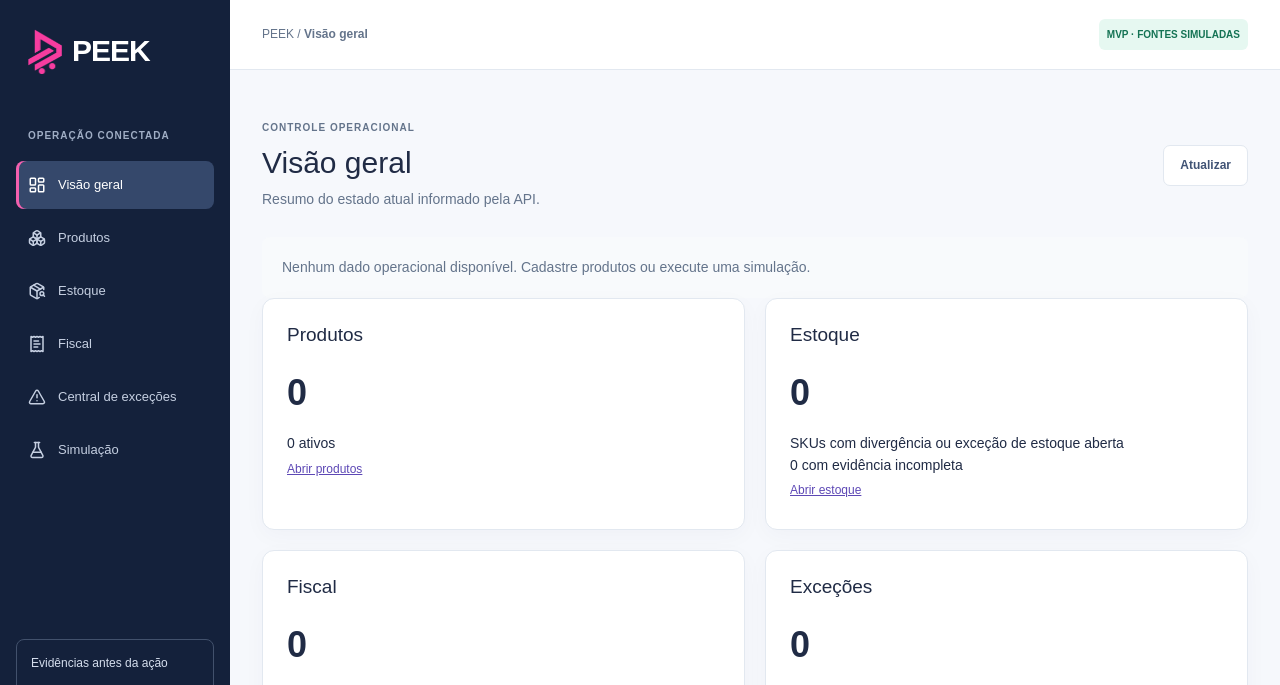
PEEK shell › exposes six real route links, uses PEEK branding and selects only the current route
The image size is (1280, 685).
Click the link "Visão geral". click: (115, 185)
box: [16,161,214,209]
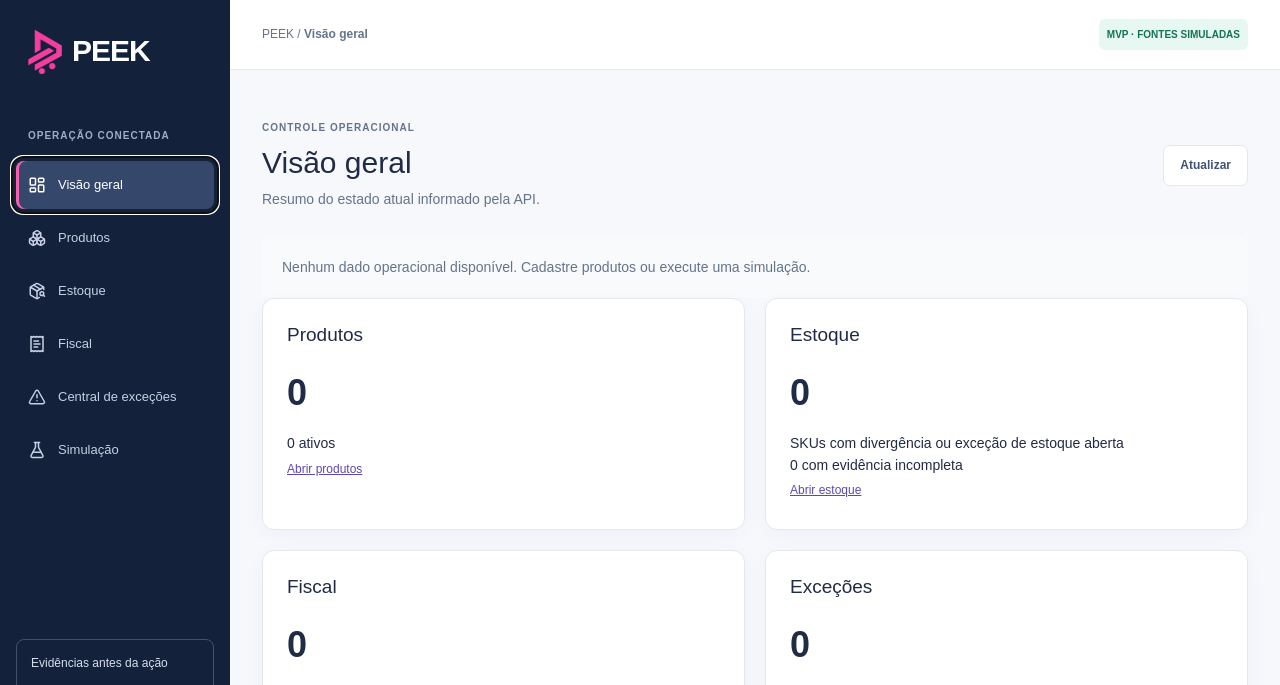
Expected: the heading "Visão geral" is shown, [262,146,412,178]
Click the link "Produtos". click: (69, 238)
box: [28,229,110,247]
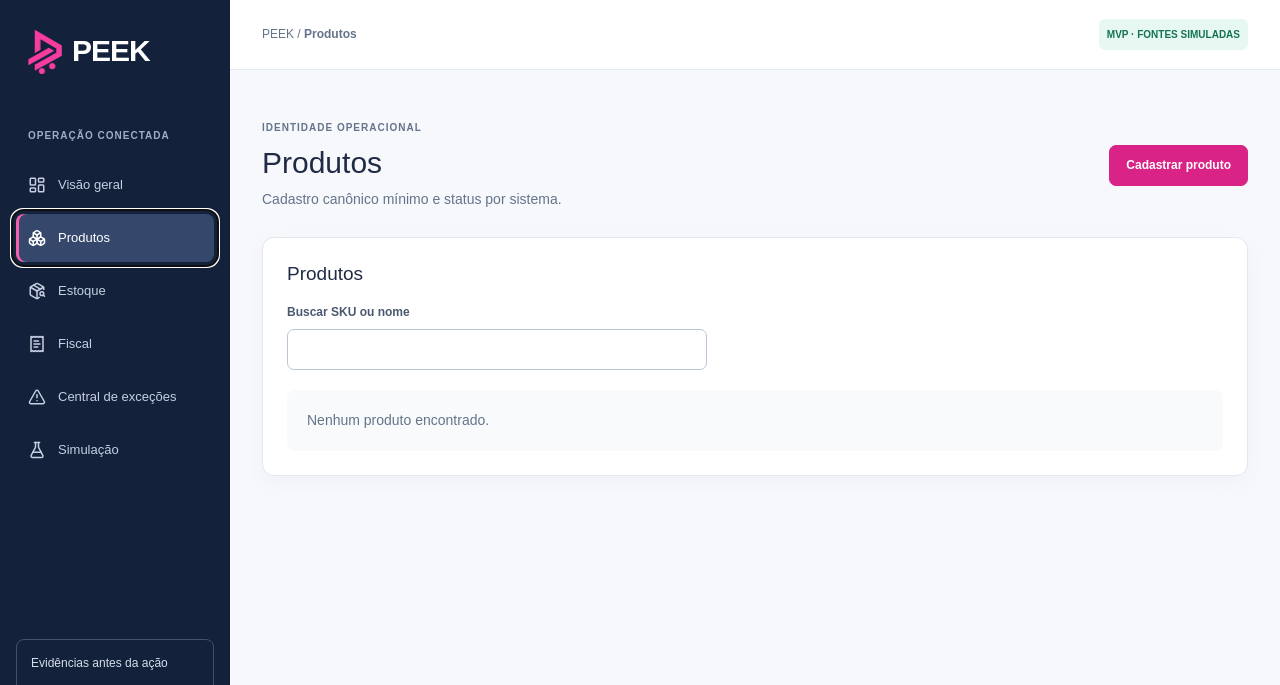
Result: the heading "Produtos" below "Identidade operacional" is shown at [262,146,382,178]
Click the link "Estoque". click: (67, 291)
box: [28,282,106,300]
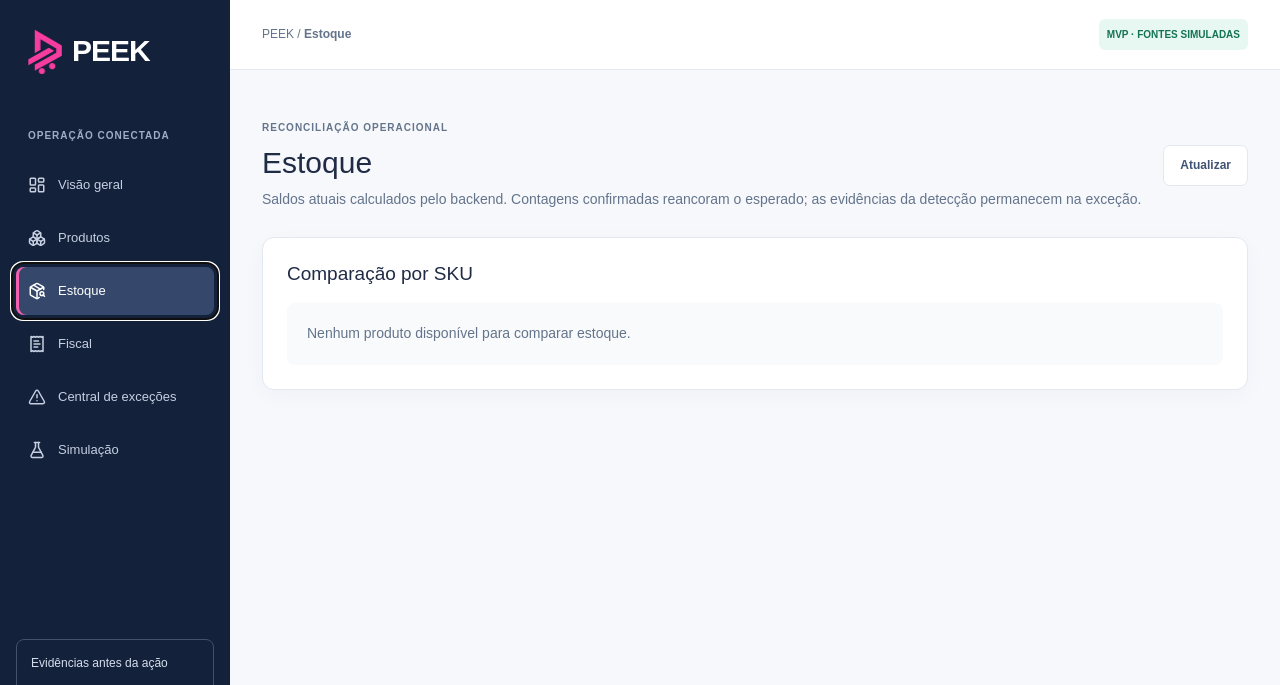
Result: the heading "Estoque" is shown at [262,146,372,178]
Click the link "Fiscal". click: (60, 344)
box: [28,335,92,353]
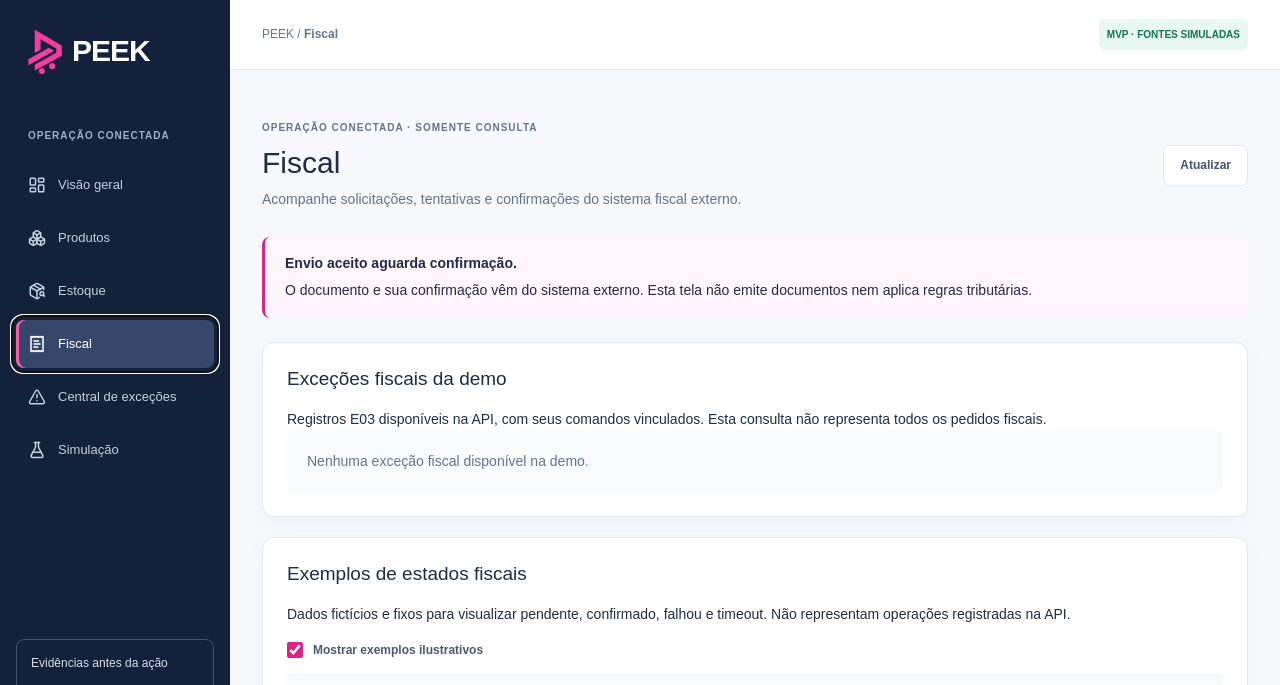
Result: the heading "Fiscal" is shown at [262,146,340,178]
Click the link "Central de exceções". click: (102, 397)
box: [28,388,176,406]
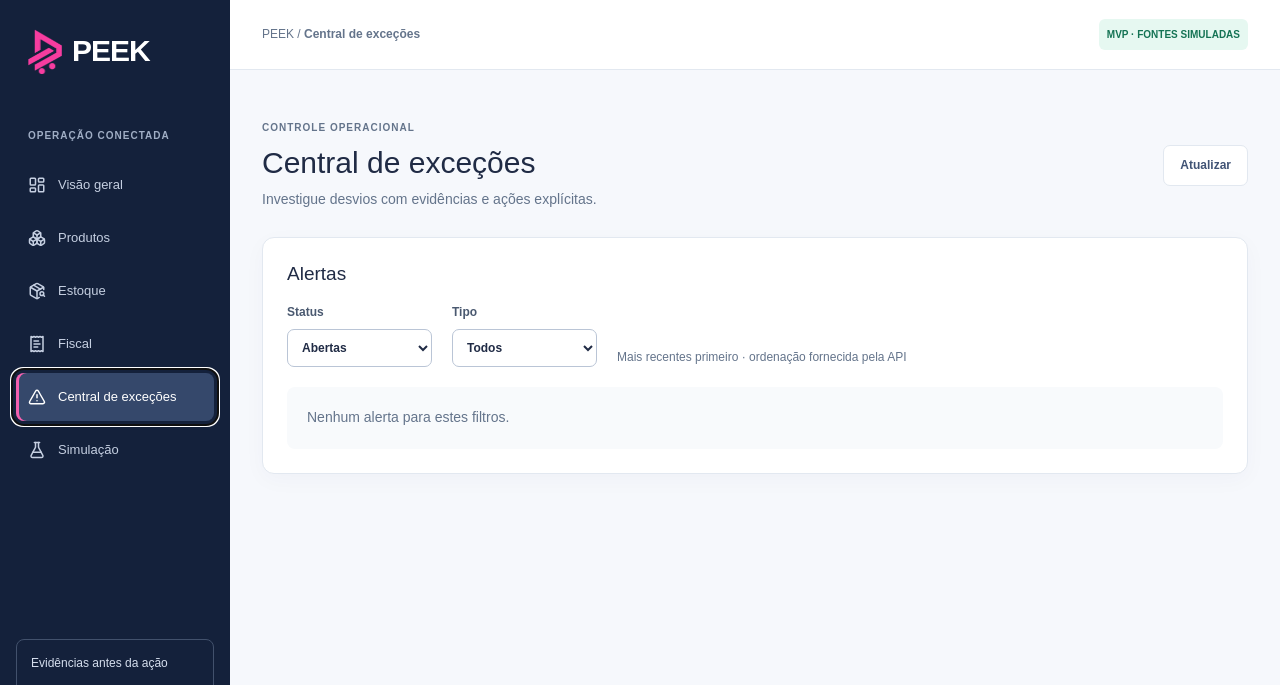
Result: the heading "Central de exceções" is shown at [262,146,536,178]
Click the link "Simulação". click: (73, 450)
box: [28,442,119,460]
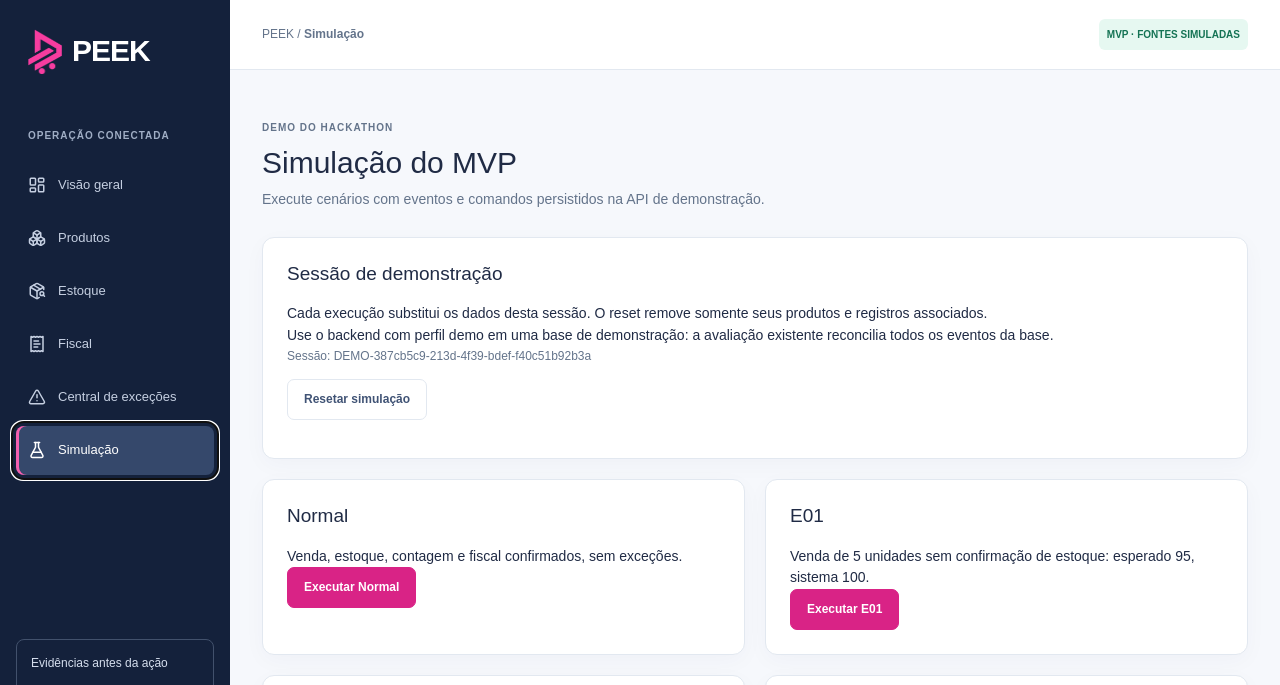
Result: the heading "Simulação do MVP" is shown at [262,146,517,178]
